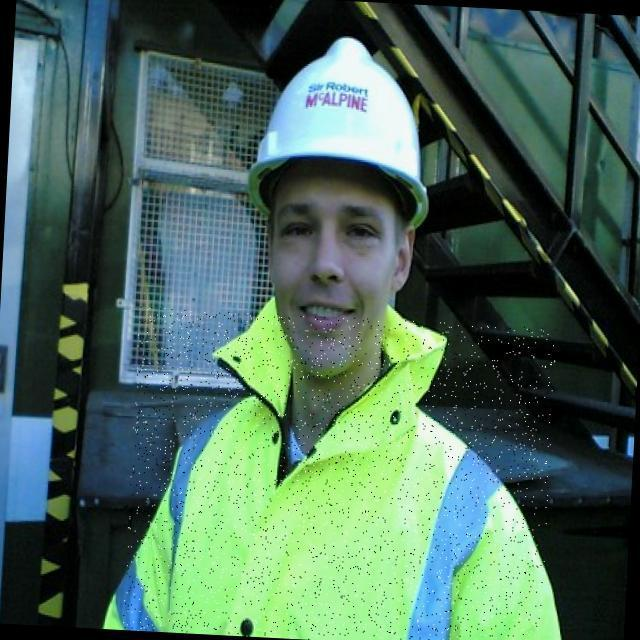helmet: (249, 33, 434, 231)
vest: (122, 306, 556, 640)
